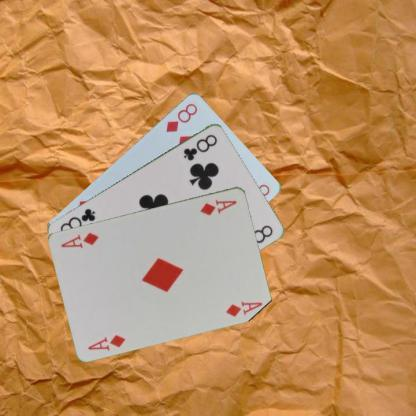8c: (181, 131, 219, 162)
8d: (163, 100, 200, 134)
Ad: (85, 332, 127, 352), (198, 196, 238, 216)
